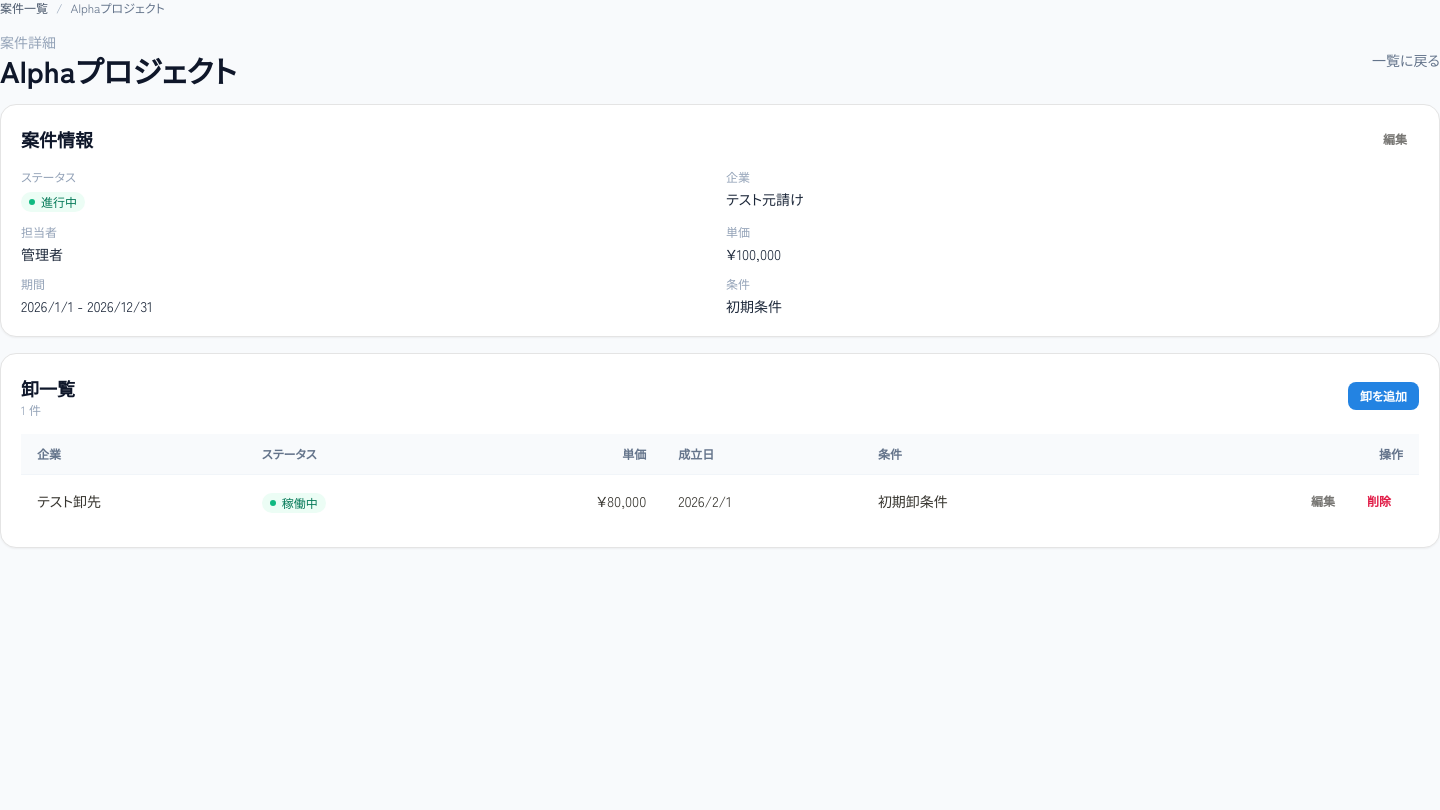
案件詳細ページ › 卸編集モーダルで保存するとステータスが更新される
Click the button "編集" in the row of "テスト卸先" at [1323, 501], box left=1299, top=487, right=1347, bottom=515
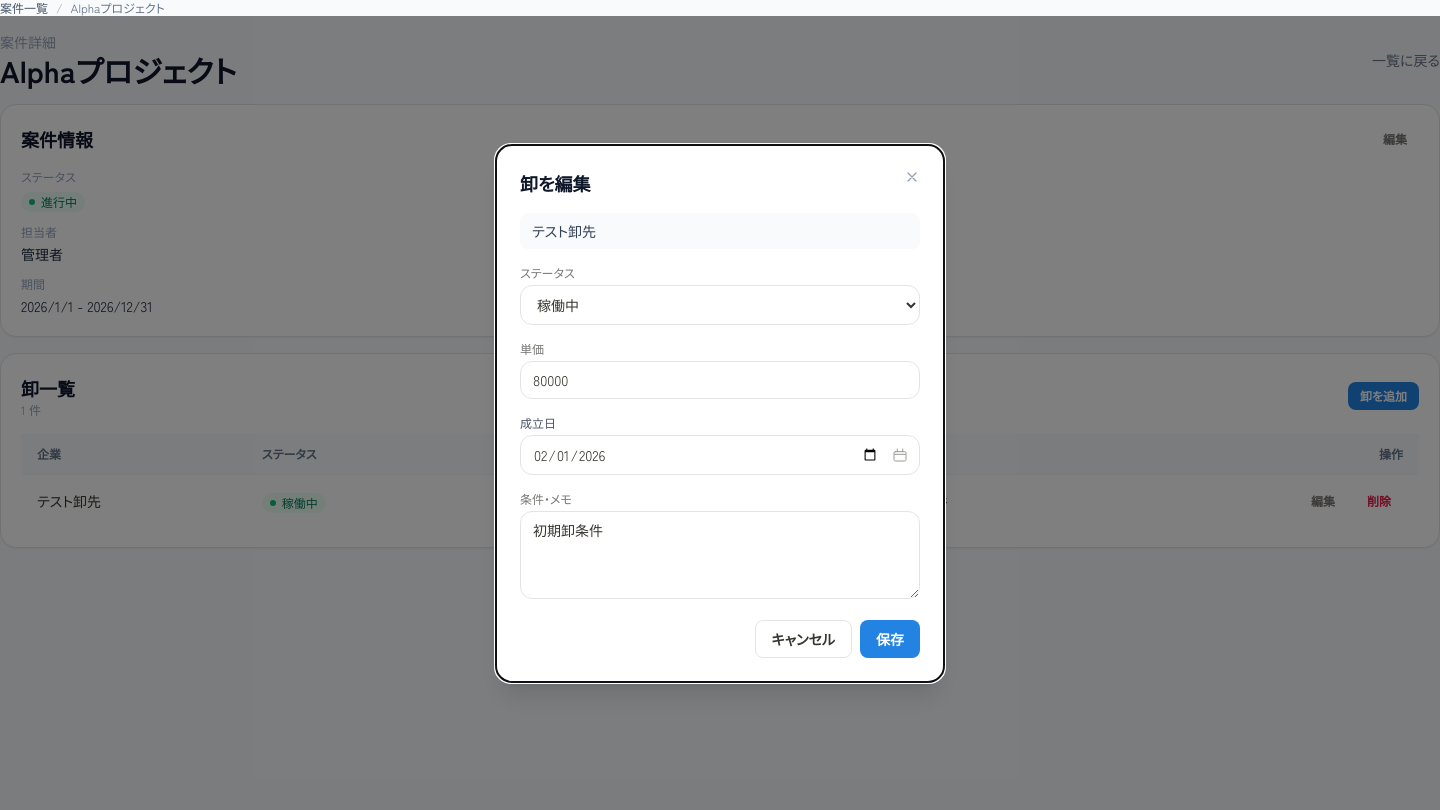
Select "一時停止" in the dropdown labelled "ステータス" at [720, 304], box left=520, top=284, right=920, bottom=324
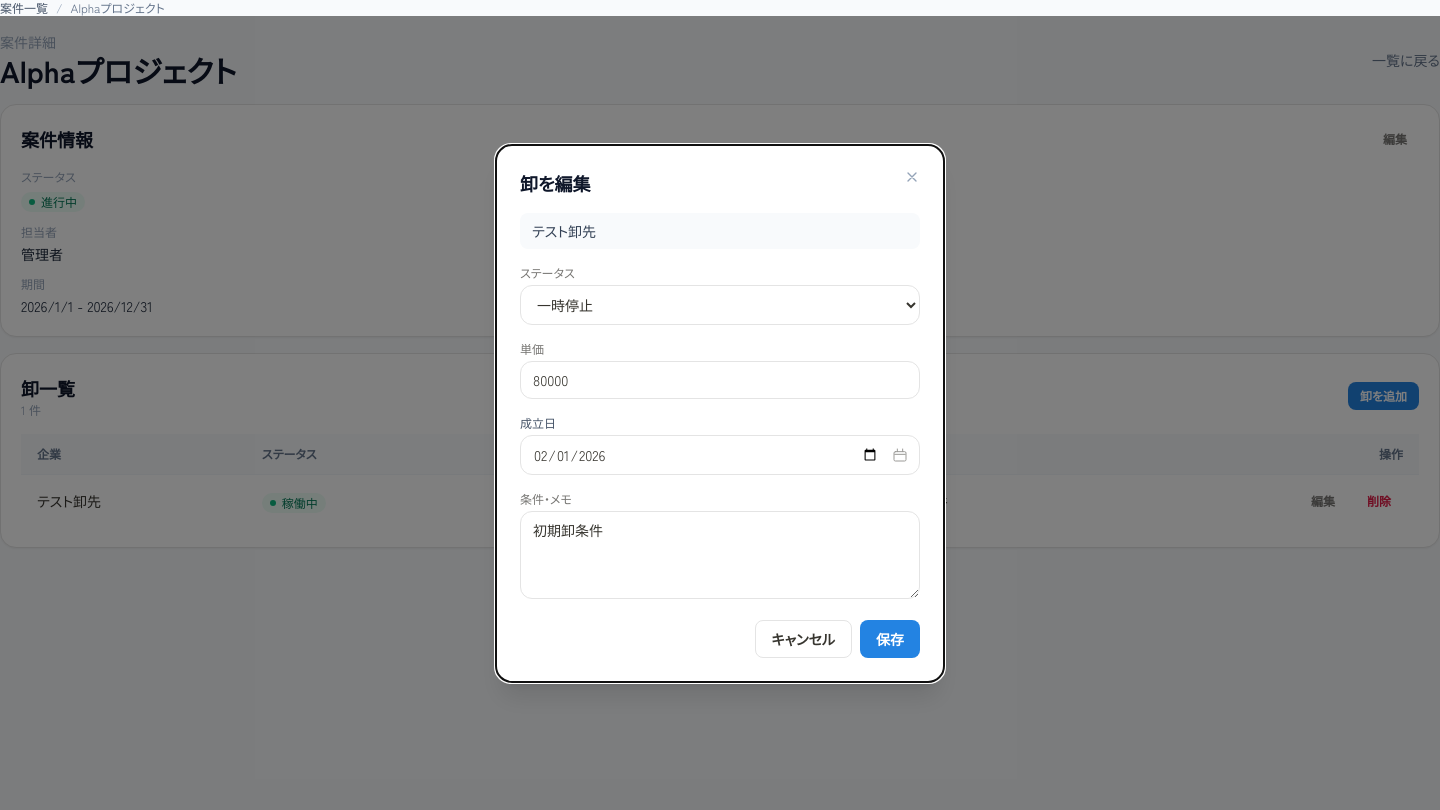
Click the button "保存" at [890, 638], box left=860, top=620, right=920, bottom=658
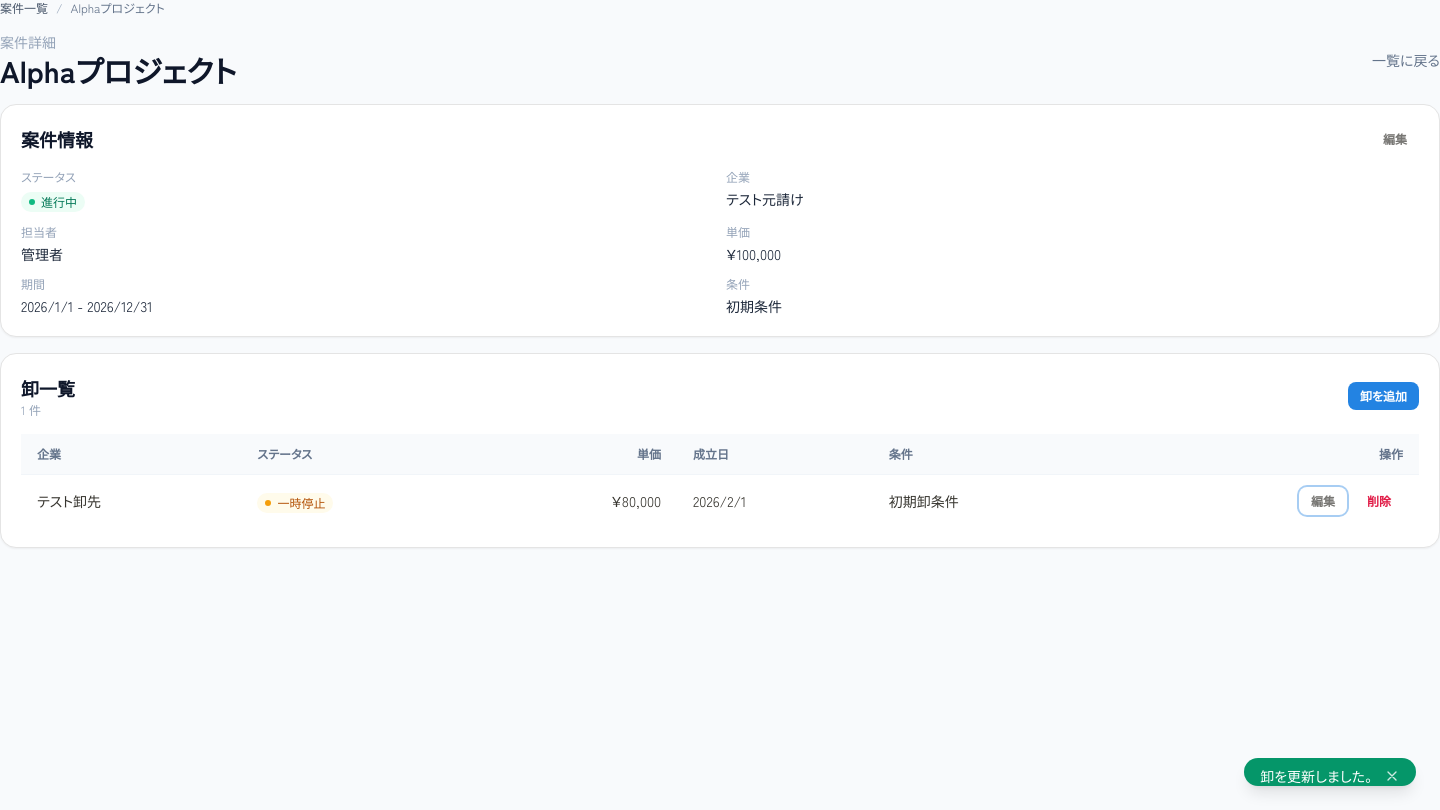
expect the heading "卸を編集" is gone: met
expect the text "一時停止" is shown: met, box left=257, top=492, right=333, bottom=512
